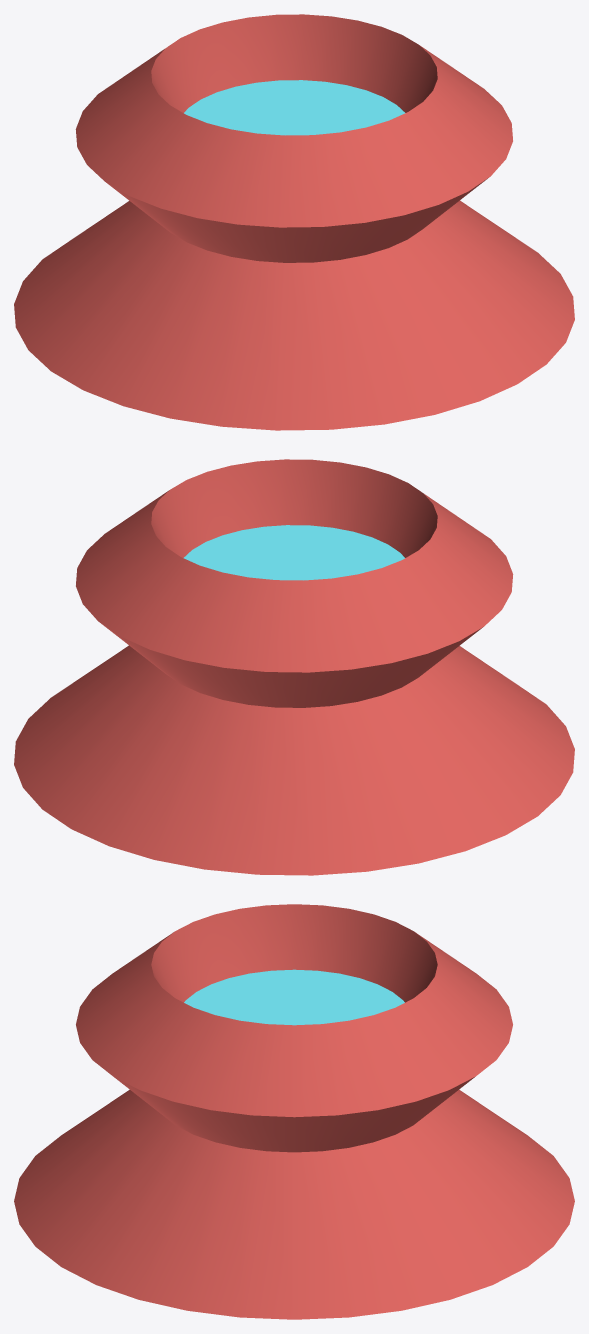
The model's file is Recipient Plant.2.fbx.
3 renders of one model, top to bottom at view 1: azimuth 30°, elevation 25°; view 2: azimuth 150°, elevation 25°; view 3: azimuth 270°, elevation 25°, orthographic.
Visible parts, largest first — view 1: VPlanta, Círculo; view 2: VPlanta, Círculo; view 3: VPlanta, Círculo.
Boxes of the visible parts, bbox=[...] form: VPlanta: bbox=[14, 14, 574, 430]; Círculo: bbox=[184, 80, 405, 135]; VPlanta: bbox=[14, 459, 574, 875]; Círculo: bbox=[183, 525, 404, 580]; VPlanta: bbox=[14, 904, 574, 1319]; Círculo: bbox=[184, 969, 404, 1025].
Size of the model in its own units: 128 by 59.67 by 128.
